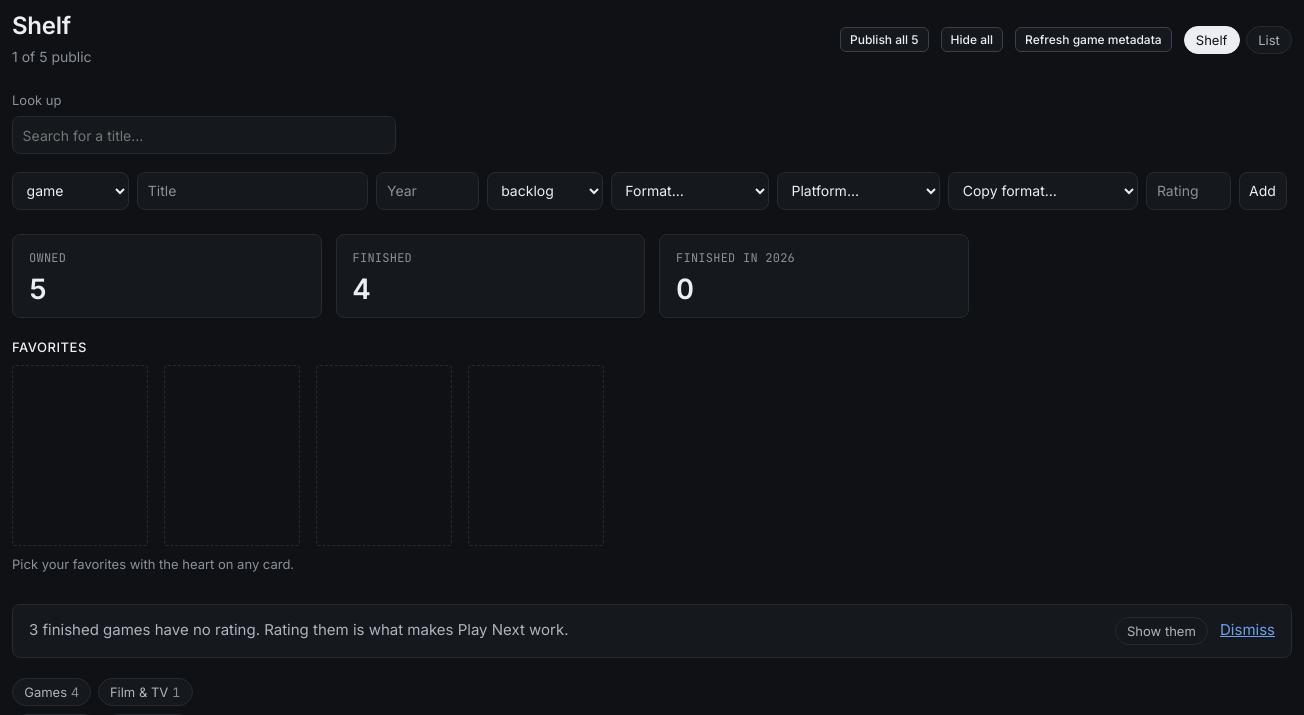
Test: AdminCollection nudge › can be dismissed
Click the button "Dismiss" at (1248, 631), box [1220,618,1275,643]
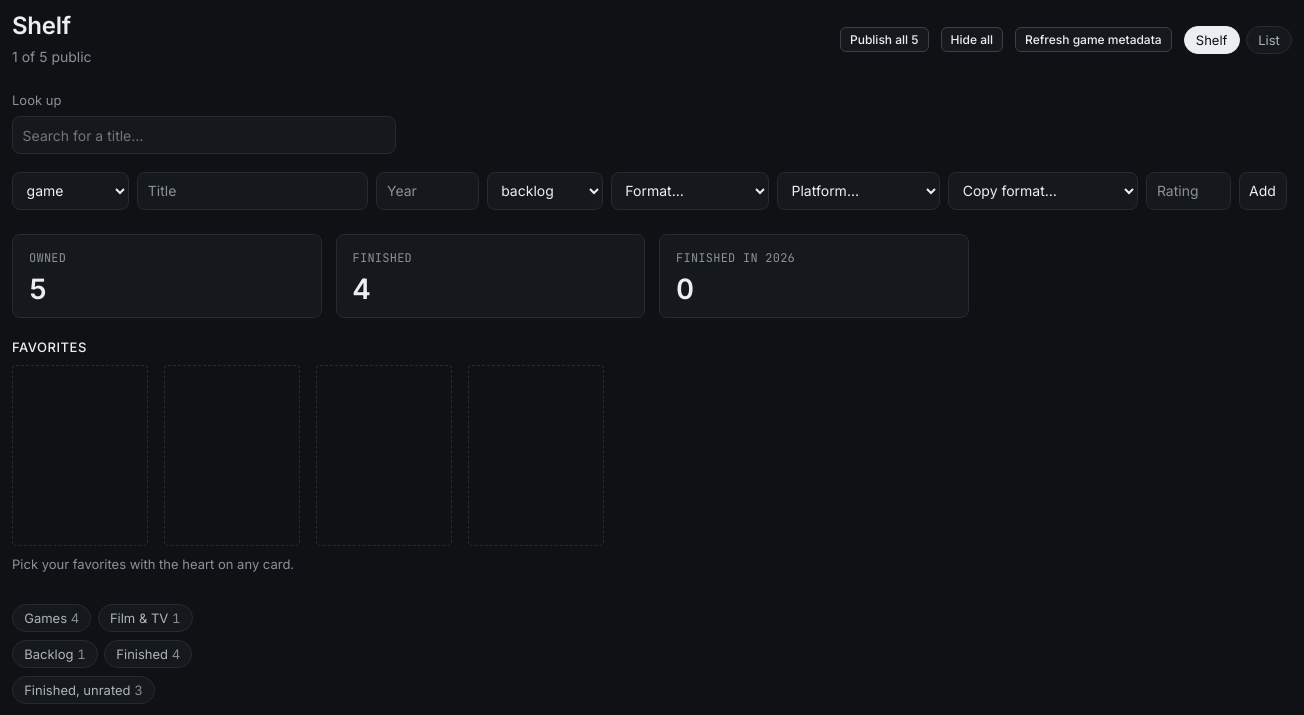
Now the text "have no rating" is gone
